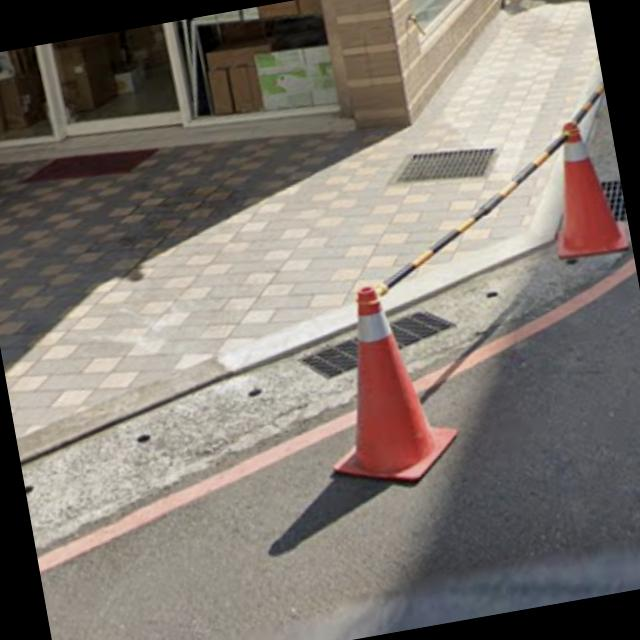cone: (307, 265, 463, 494), (526, 104, 628, 269)
